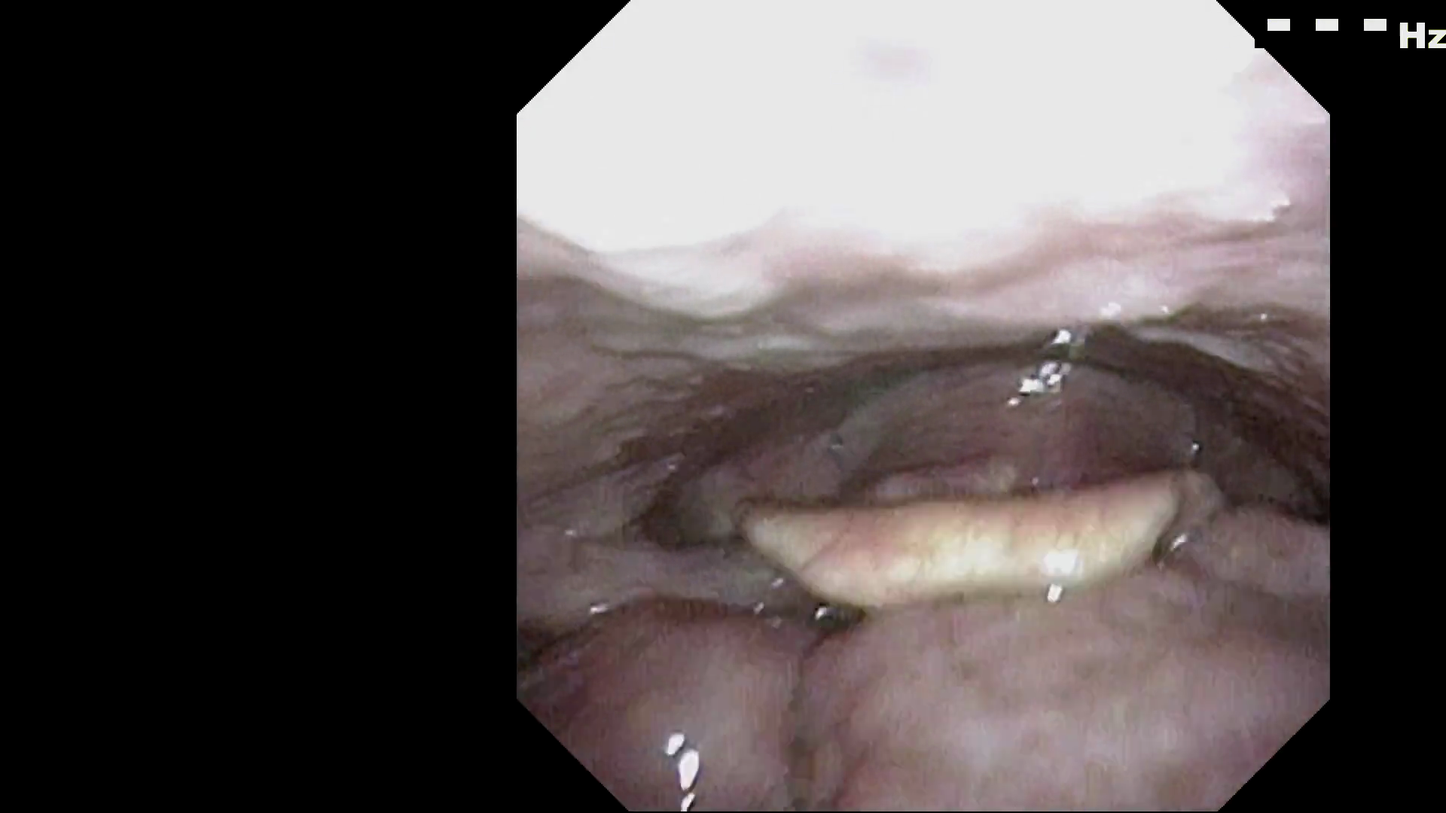epiglottis: (709, 484, 1251, 624)
